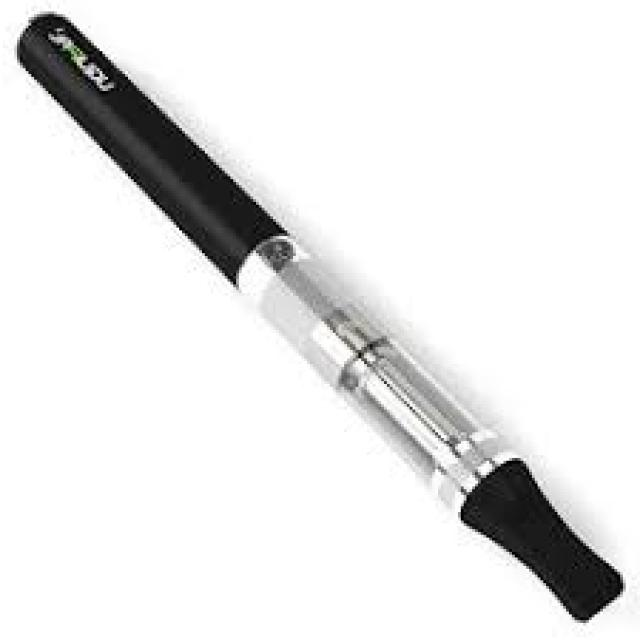Cigarette: (17, 15, 624, 623)
